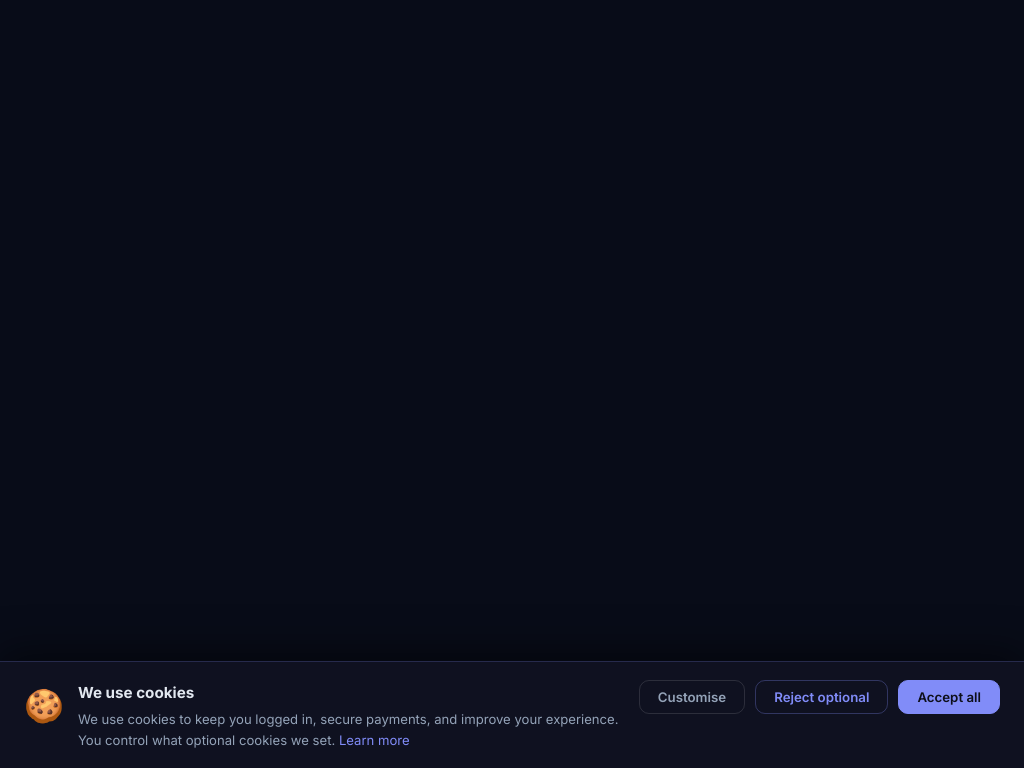
Scenario: CookieConsent › expands preferences when Customise is clicked
Click the button "Customise" at (692, 697), box [639,680,745,714]
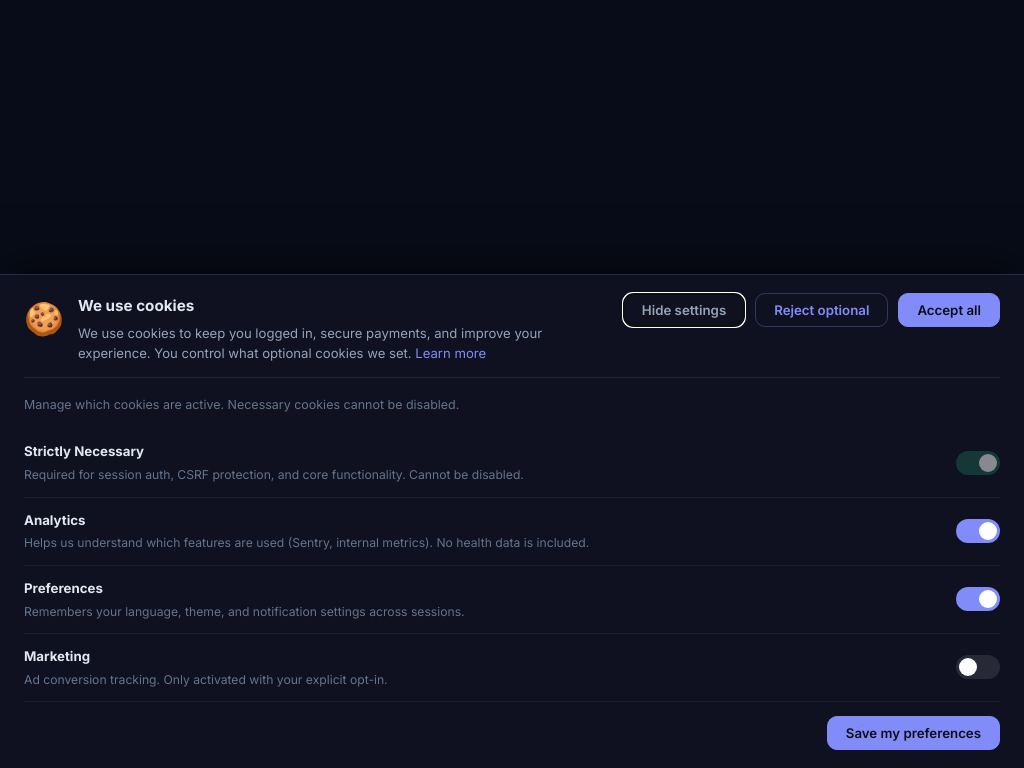
Expected: the text "Strictly Necessary" is shown, [24,443,144,459]
Expected: the text "Analytics" is shown, [24,512,86,528]
Expected: the text "Preferences" is shown, [24,580,103,596]
